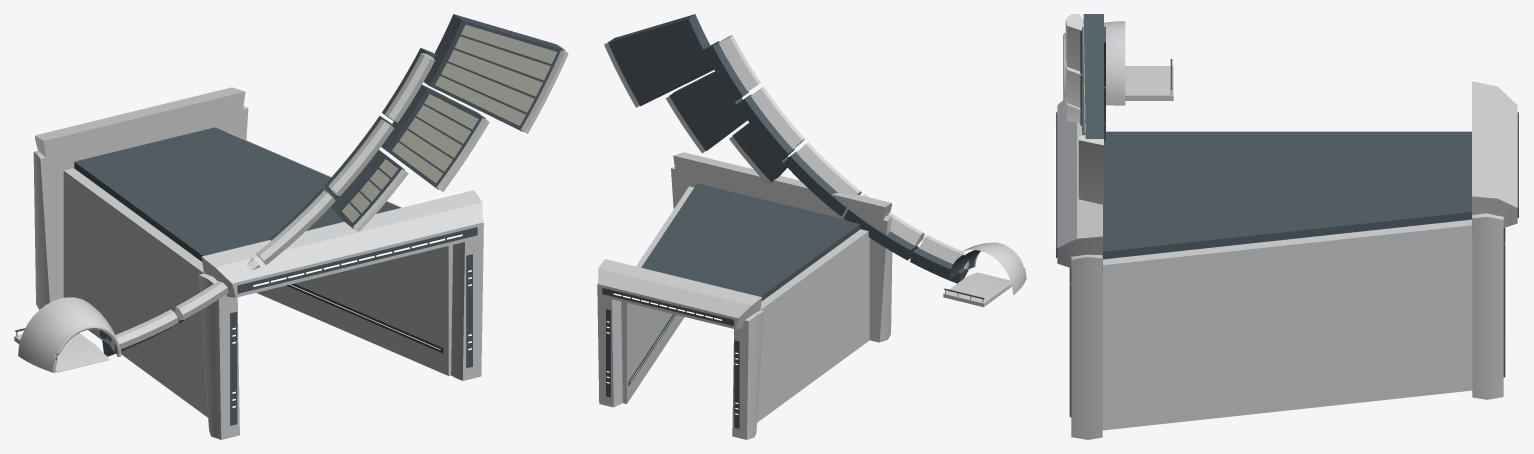
File: ring-gate-2127.glb
3 renders of one model, left to right at view 1: azimuth 30°, elevation 25°; view 2: azimuth 150°, elevation 25°; view 3: azimuth 270°, elevation 25°, orthographic. The views are drawn at different scales.
Parts seen in each view (by area): view 1: Ring_Ceramic, Ring_Graphite, Ring_Glazing, Ring_Wayfinding; view 2: Ring_Ceramic, Ring_Graphite; view 3: Ring_Ceramic, Ring_Graphite.
Part boxes in pixels (box(x1,y1,x2,y2)): Ring_Ceramic: box(14, 46, 568, 439); Ring_Graphite: box(74, 14, 564, 425); Ring_Glazing: box(342, 24, 557, 222); Ring_Wayfinding: box(232, 234, 471, 407); Ring_Ceramic: box(597, 35, 1026, 439); Ring_Graphite: box(602, 14, 979, 428); Ring_Ceramic: box(1057, 14, 1517, 439); Ring_Graphite: box(1056, 14, 1518, 417).
Size of the model in its own units: 87.39 by 55.72 by 56.26.
